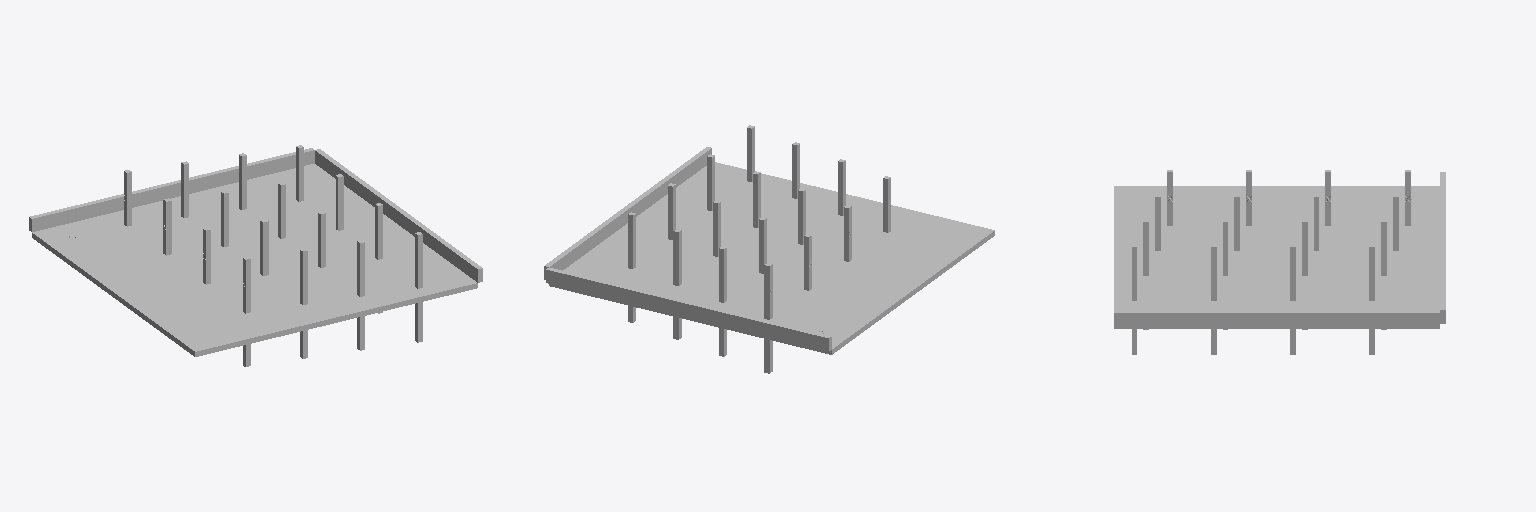
Rendered from depth_test_world v4.obj.
The picture shows the model from 3 angles: view 1: azimuth 30°, elevation 25°; view 2: azimuth 150°, elevation 25°; view 3: azimuth 270°, elevation 25°; orthographic projection.
Visible parts, largest first — view 1: Body1, Body19, Body20, Body18, Body12, Body9, Body15; view 2: Body1, Body19, Body20, Body4, Body3, Body2, Body5; view 3: Body1, Body20, Body19.
Boxes of the visible parts, <box> form: Body1: <box>32,164,477,356</box>; Body19: <box>29,148,314,231</box>; Body20: <box>315,149,482,282</box>; Body18: <box>415,232,422,342</box>; Body12: <box>357,240,364,350</box>; Body9: <box>300,248,307,358</box>; Body15: <box>243,256,250,366</box>; Body1: <box>549,162,994,354</box>; Body19: <box>546,267,831,351</box>; Body20: <box>544,147,711,279</box>; Body4: <box>764,263,772,373</box>; Body3: <box>673,229,681,339</box>; Body2: <box>719,246,726,356</box>; Body5: <box>628,212,635,322</box>; Body1: <box>1114,186,1439,328</box>; Body20: <box>1114,310,1439,325</box>; Body19: <box>1440,172,1445,323</box>.
Bounding box in the file's own units: 560 × 200 × 560.